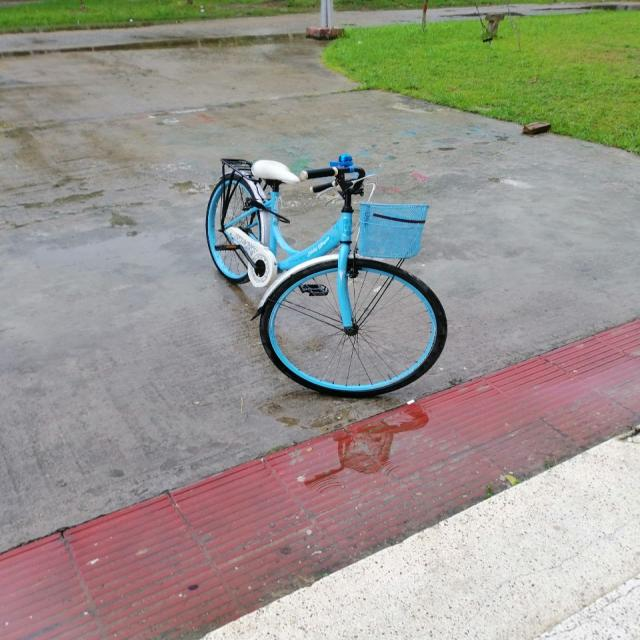Bicycle: (174, 147, 456, 409)
